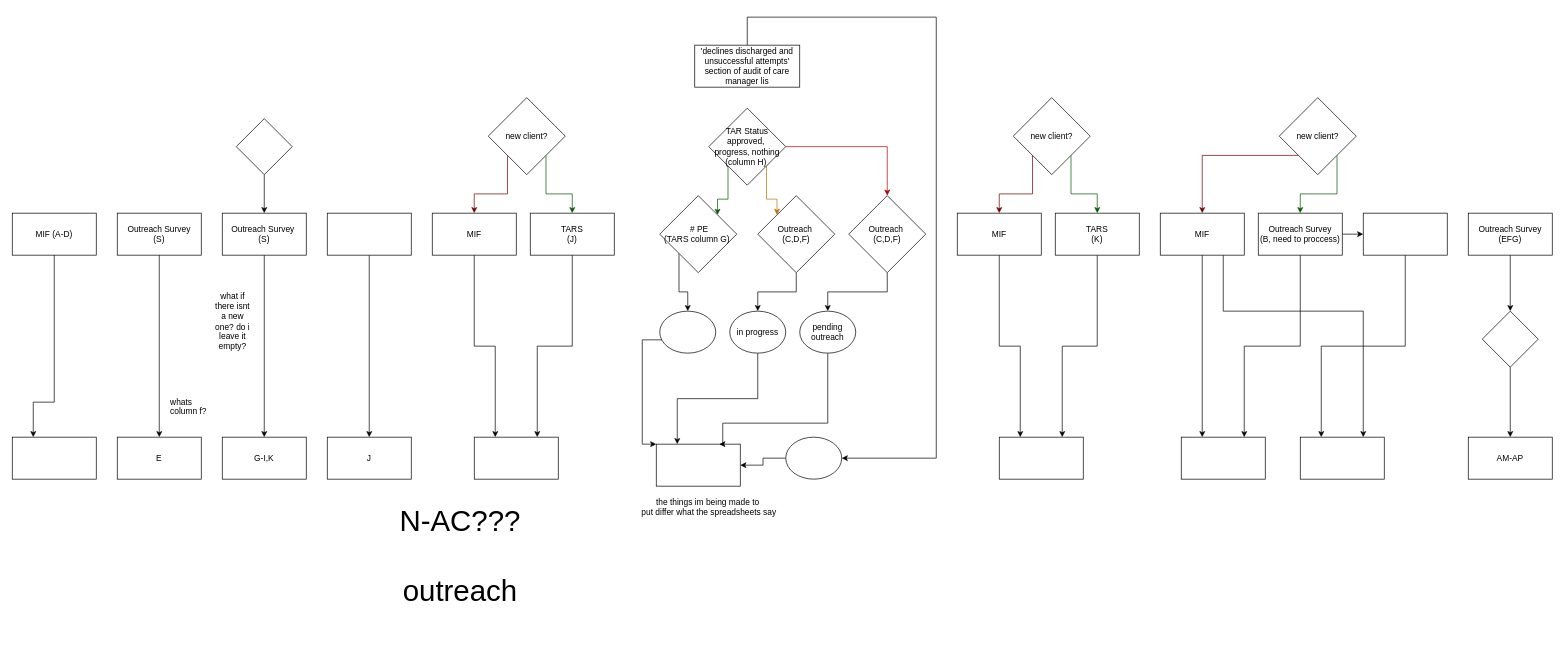
This 1565x657 diagram has some shape labels left out. The shapes that lost their labels are listed below. From the top down, each one's centre as x and y in pixels, then its label:
the point at 264,146: new address
the point at 369,233: Outreach Survey (T)
the point at 1405,233: have phone numbers saved based on names
the point at 687,331: enrolled
the point at 1510,338: need to process info
the point at 54,457: columns A-D
the point at 516,457: AD
the point at 698,464: AE
the point at 813,457: highlight green
the point at 1041,457: AF
the point at 1223,457: AG
the point at 1342,457: AH
